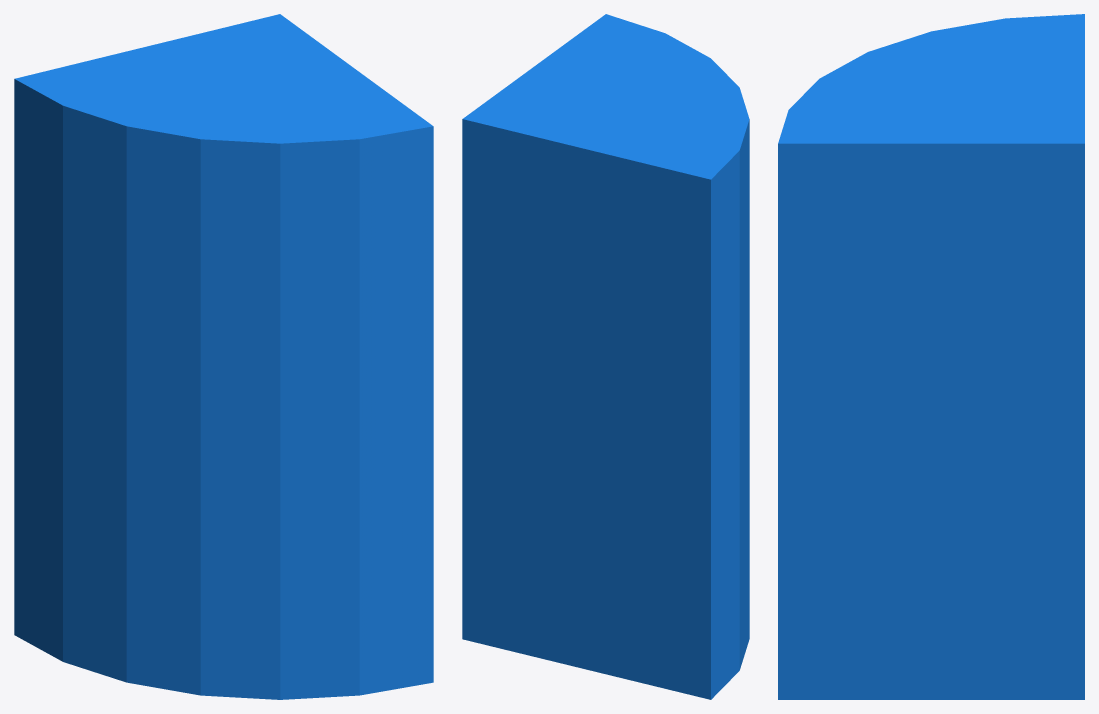
The model's file is Proto_Block_Cylinder_Quarter_01.fbx.
3 renders of one model, left to right at view 1: azimuth 30°, elevation 25°; view 2: azimuth 150°, elevation 25°; view 3: azimuth 270°, elevation 25°, orthographic. The views are drawn at different scales.
Parts seen in each view (by area): view 1: Proto_Block_Cylinder_Quarter_01; view 2: Proto_Block_Cylinder_Quarter_01; view 3: Proto_Block_Cylinder_Quarter_01.
Part boxes in pixels (x1=…): Proto_Block_Cylinder_Quarter_01: x1=14, y1=14, x2=433, y2=699; Proto_Block_Cylinder_Quarter_01: x1=462, y1=14, x2=749, y2=699; Proto_Block_Cylinder_Quarter_01: x1=778, y1=14, x2=1084, y2=699.
Size of the model in its own units: 0.5 by 1 by 0.5.
